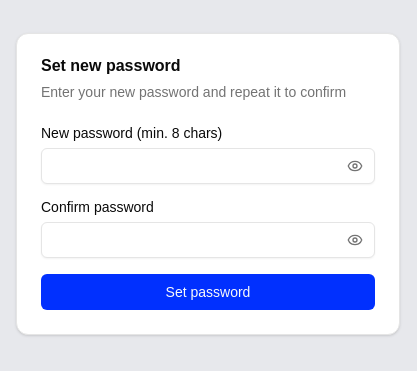
ResetPasswordPage › should report another failure on the page, once
In the password field labelled "New password (min. 8 chars)": (208, 166) [41,148,375,184], type "secret123"
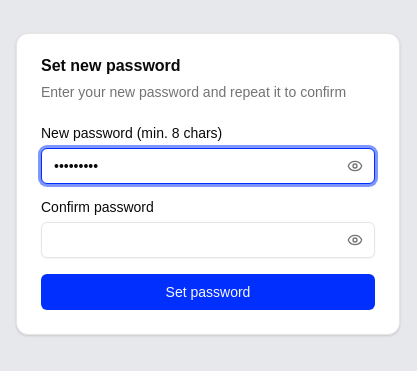
In the password field labelled "Confirm password": (208, 240) [41,222,375,258], type "secret123"
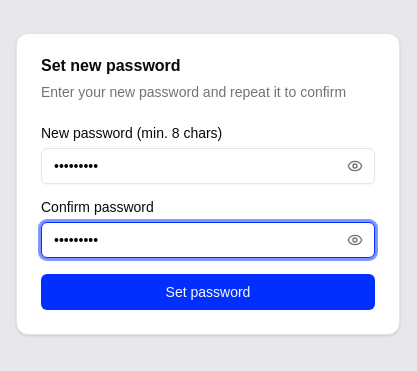
Click the button "Set password": click(208, 292) [41,274,375,310]
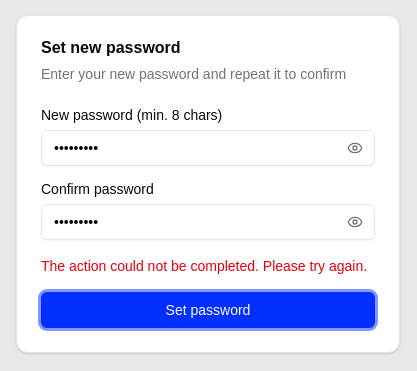
Expected: the message reads "The action could not be completed. Please try again.", [41,258,367,274]
